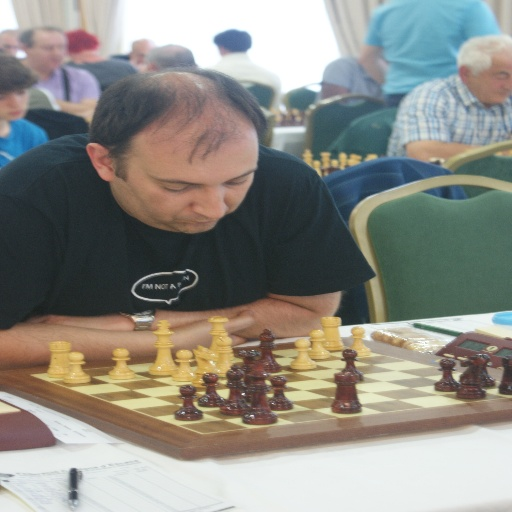hand: (174, 309, 257, 347), (22, 313, 133, 329)
